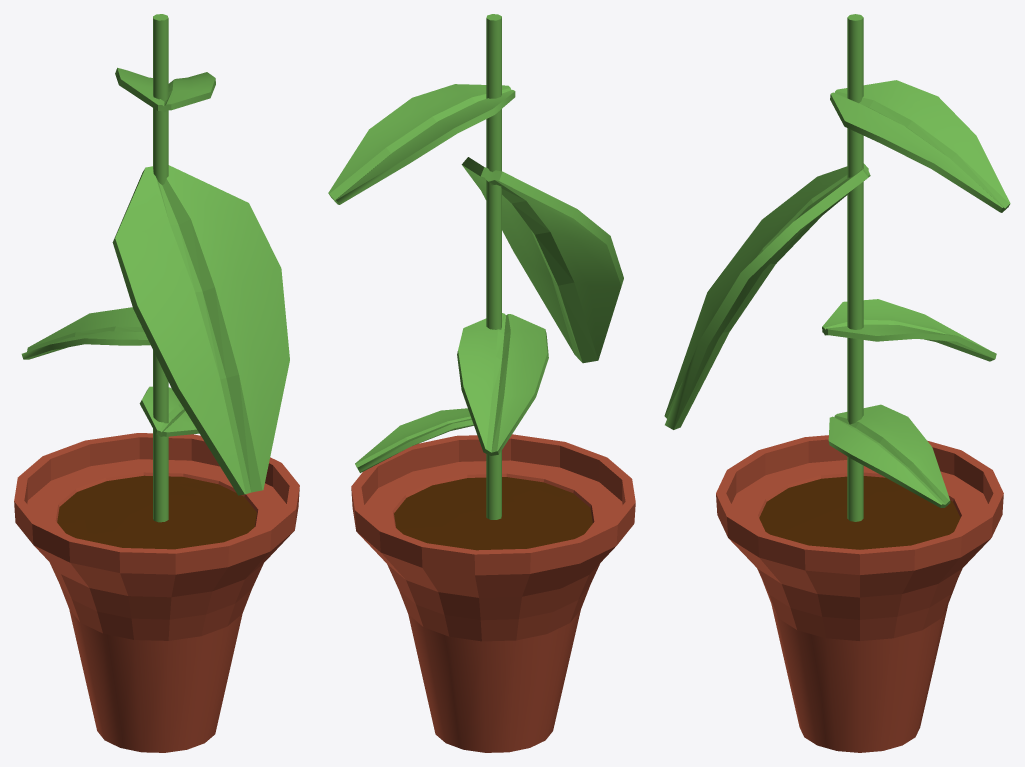
The model's file is SM_plant_02.fbx.
3 renders of one model, left to right at view 1: azimuth 30°, elevation 25°; view 2: azimuth 150°, elevation 25°; view 3: azimuth 270°, elevation 25°, orthographic.
Visible parts, largest first — view 1: plant_02; view 2: plant_02; view 3: plant_02.
Part boxes in pixels (x1=…): plant_02: x1=14, y1=14, x2=299, y2=752; plant_02: x1=328, y1=14, x2=635, y2=752; plant_02: x1=664, y1=14, x2=1010, y2=752.
Size of the model in its own units: 41.68 by 114 by 50.09.
